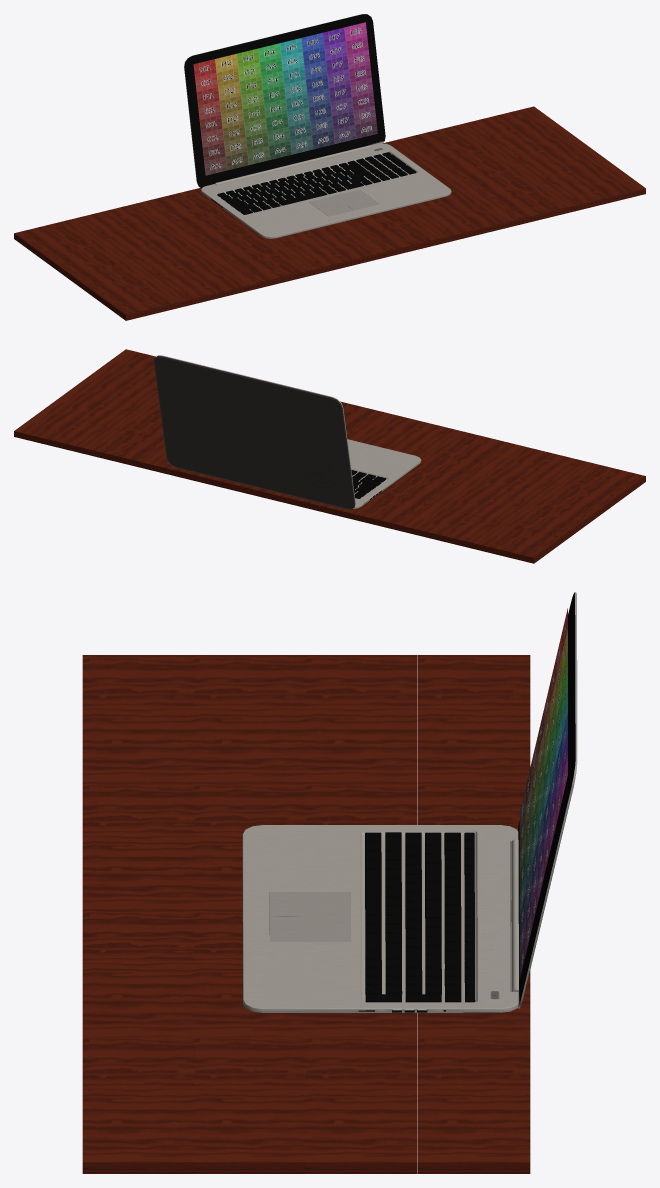
3 renders of one model, top to bottom at view 1: azimuth 30°, elevation 25°; view 2: azimuth 150°, elevation 25°; view 3: azimuth 270°, elevation 25°, orthographic. The views are drawn at different scales.
Parts seen in each view (by area): view 1: Cube.002, Plane, Cube.002_Laptop_0.001; view 2: Cube.002, Cube.002_Laptop_0.001; view 3: Cube.002, Cube.002_Laptop_0.001, Plane.
Part boxes in pixels (x1,y1,x2,y2): Cube.002: (14, 106, 645, 320); Plane: (193, 22, 377, 175); Cube.002_Laptop_0.001: (184, 14, 451, 238); Cube.002: (14, 349, 645, 563); Cube.002_Laptop_0.001: (154, 355, 421, 509); Cube.002: (82, 655, 530, 1173); Cube.002_Laptop_0.001: (242, 592, 577, 1012); Plane: (519, 608, 567, 979).
Bounding box in the file's own units: 1.2 × 0.2831 × 0.4935.
Materials: 4 (3 with a texture image).
